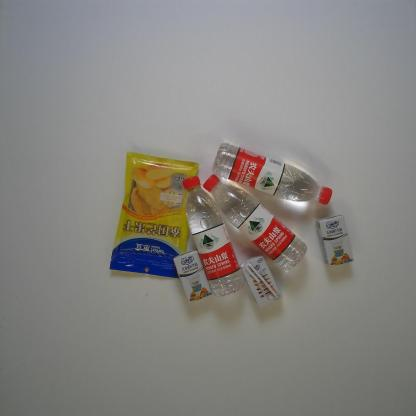Dried Fruit: (108, 150, 202, 281)
Drink: (200, 172, 310, 273), (211, 140, 334, 206), (181, 173, 245, 298)
Milk: (238, 253, 284, 309), (173, 248, 212, 305), (314, 214, 354, 268)
